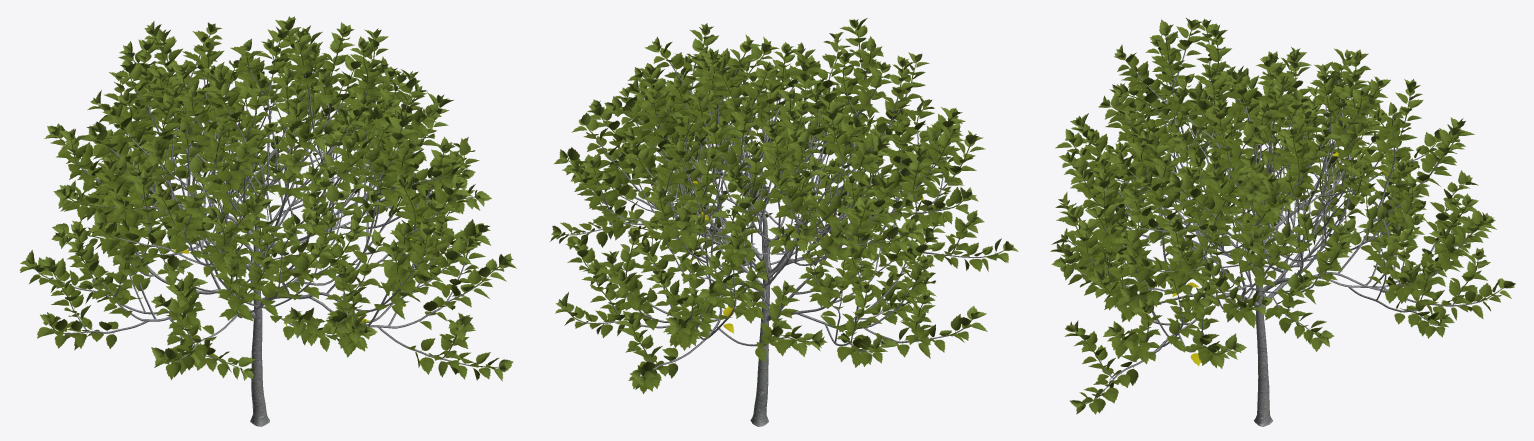
Rendered from hibiscus-real-v1.glb.
3 views of the same model, side by side, from view 1: azimuth 30°, elevation 25°; view 2: azimuth 150°, elevation 25°; view 3: azimuth 270°, elevation 25° (orthographic). The views are drawn at different scales.
Parts seen in each view (by area): view 1: Hibiscus_rosa_sinensis_HD; view 2: Hibiscus_rosa_sinensis_HD; view 3: Hibiscus_rosa_sinensis_HD.
Part boxes in pixels (x1,y1,x2,y2): Hibiscus_rosa_sinensis_HD: (19,16,516,426); Hibiscus_rosa_sinensis_HD: (550,18,1018,426); Hibiscus_rosa_sinensis_HD: (1050,18,1515,426).
Bounding box in the file's own units: 2.99 × 2.53 × 2.86.
6 materials, 6 textured.
